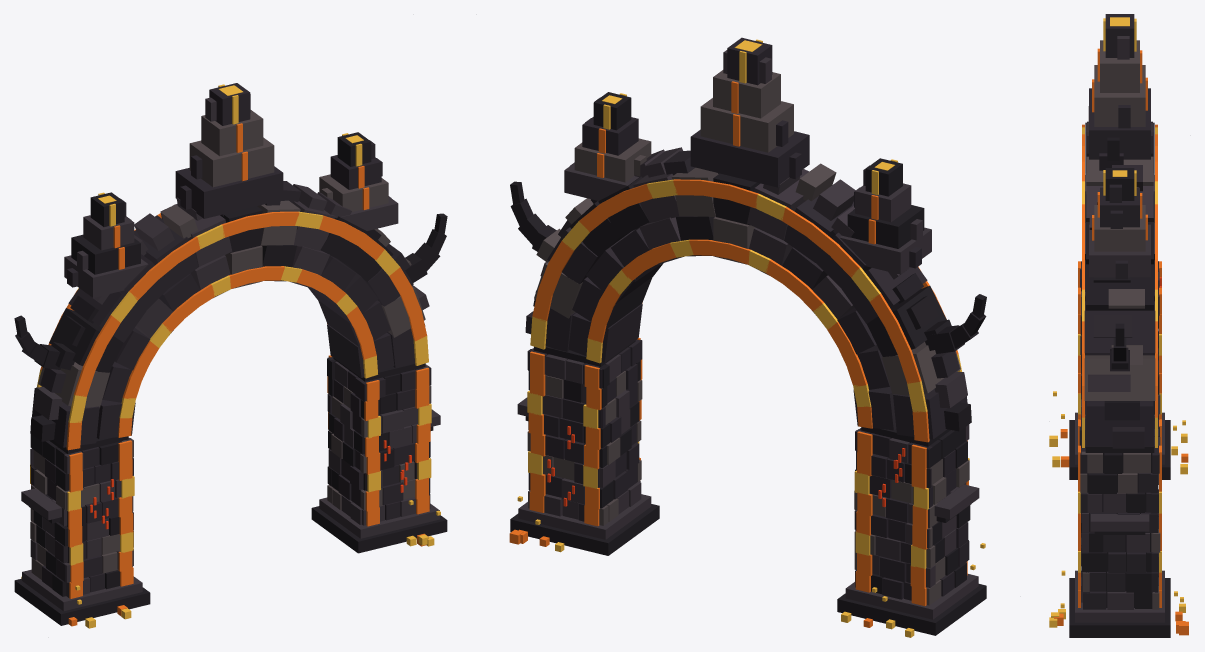
Rendered from ArcoVolcan.fbx.
3 views of the same model, side by side, from view 1: azimuth 30°, elevation 25°; view 2: azimuth 150°, elevation 25°; view 3: azimuth 270°, elevation 25° (orthographic). The views are drawn at different scales.
Visible parts, largest first — view 1: ArcoVolcan, ArcoVolcanLava; view 2: ArcoVolcan, ArcoVolcanLava; view 3: ArcoVolcan, ArcoVolcanLava.
Boxes of the visible parts, x1,y1,x2,y2 form: ArcoVolcan: [14, 83, 447, 625]; ArcoVolcanLava: [21, 84, 440, 628]; ArcoVolcan: [510, 37, 986, 635]; ArcoVolcanLava: [509, 39, 985, 637]; ArcoVolcan: [1069, 14, 1170, 637]; ArcoVolcanLava: [1049, 17, 1188, 635].
Size of the model in its own units: 69.35 by 73.08 by 18.15.
Materials: 2 (2 with a texture image).
